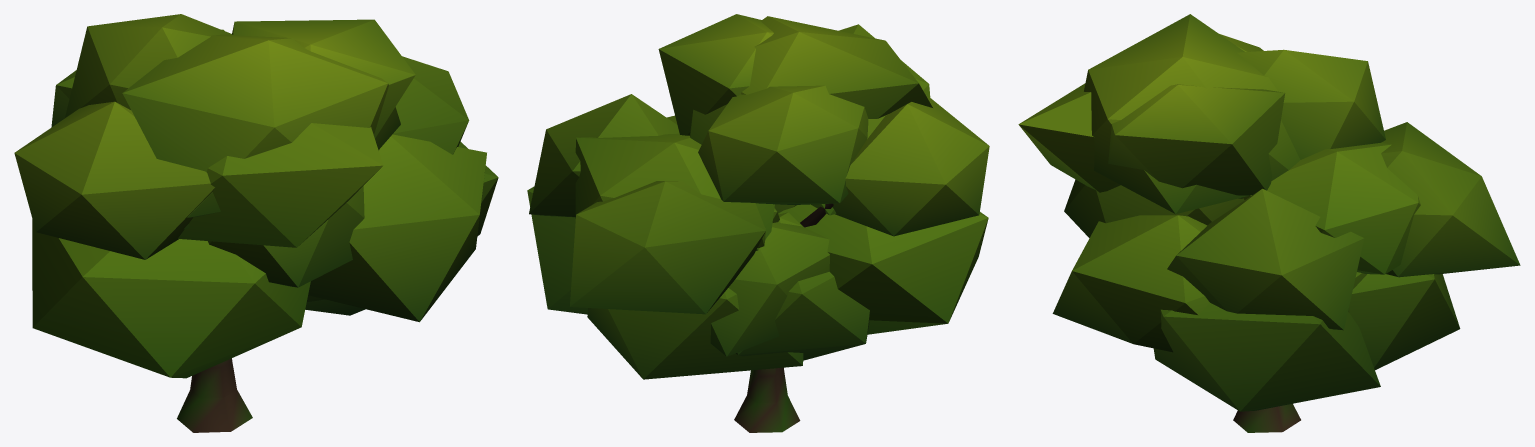
The model's file is bigleaf-maple-distant.glb.
The picture shows the model from 3 angles, left to right: view 1: azimuth 30°, elevation 25°; view 2: azimuth 150°, elevation 25°; view 3: azimuth 270°, elevation 25°; orthographic projection. The views are drawn at different scales.
Parts seen in each view (by area): view 1: bigleaf-maple-distant.Leaves, bigleaf-maple-distant.Bark; view 2: bigleaf-maple-distant.Leaves, bigleaf-maple-distant.Bark; view 3: bigleaf-maple-distant.Leaves, bigleaf-maple-distant.Bark.
Part boxes in pixels (bbox=[...]): bigleaf-maple-distant.Leaves: bbox=[14, 14, 498, 378]; bigleaf-maple-distant.Bark: bbox=[177, 358, 252, 432]; bigleaf-maple-distant.Leaves: bbox=[527, 14, 989, 379]; bigleaf-maple-distant.Bark: bbox=[734, 203, 833, 432]; bigleaf-maple-distant.Leaves: bbox=[1018, 14, 1520, 411]; bigleaf-maple-distant.Bark: bbox=[1233, 403, 1300, 432].
Bounding box in the file's own units: 14.21 × 12.01 × 14.87.
